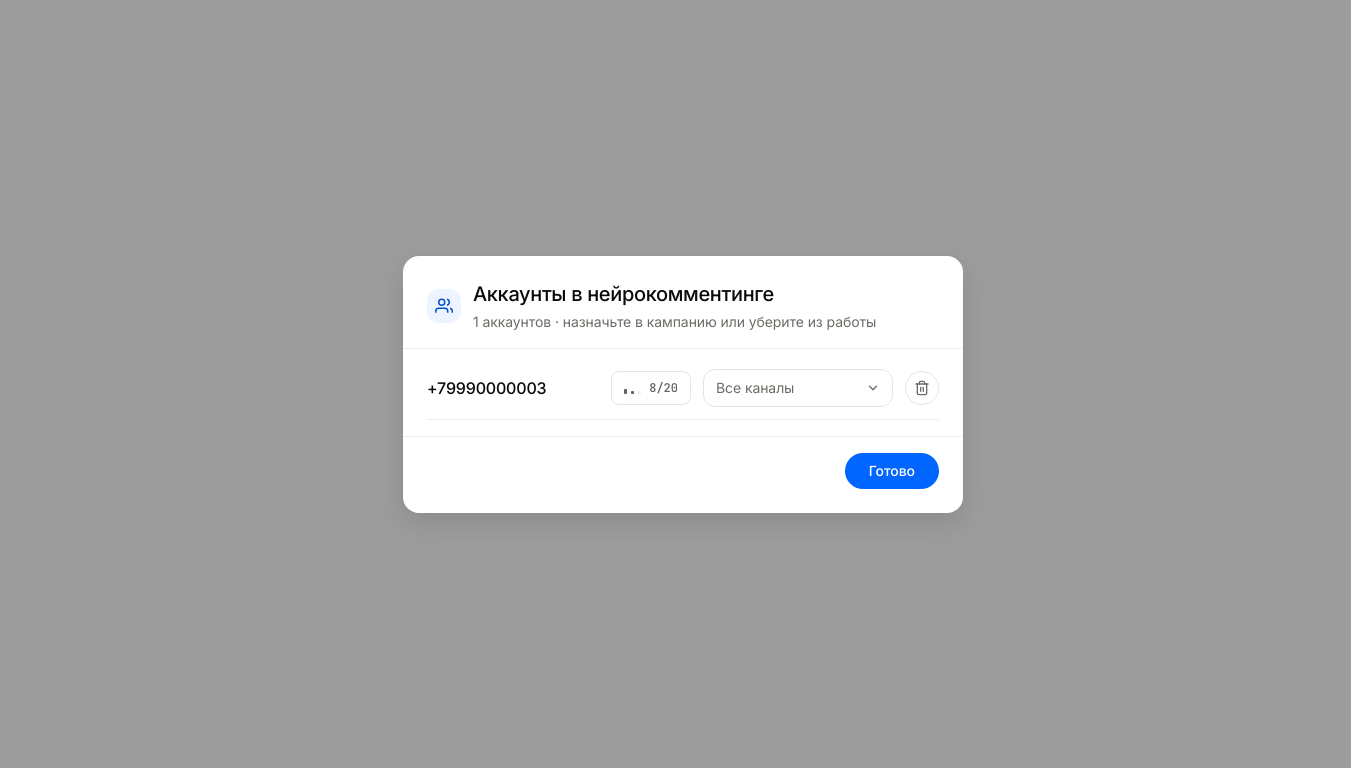
Test: an empty subset shows and selects "all channels"
What coordinates should you click on to do the following:
click the button with aria-label "Каналы аккаунта"
I would click on:
 (798, 388)
Its box is left=703, top=368, right=893, bottom=406.
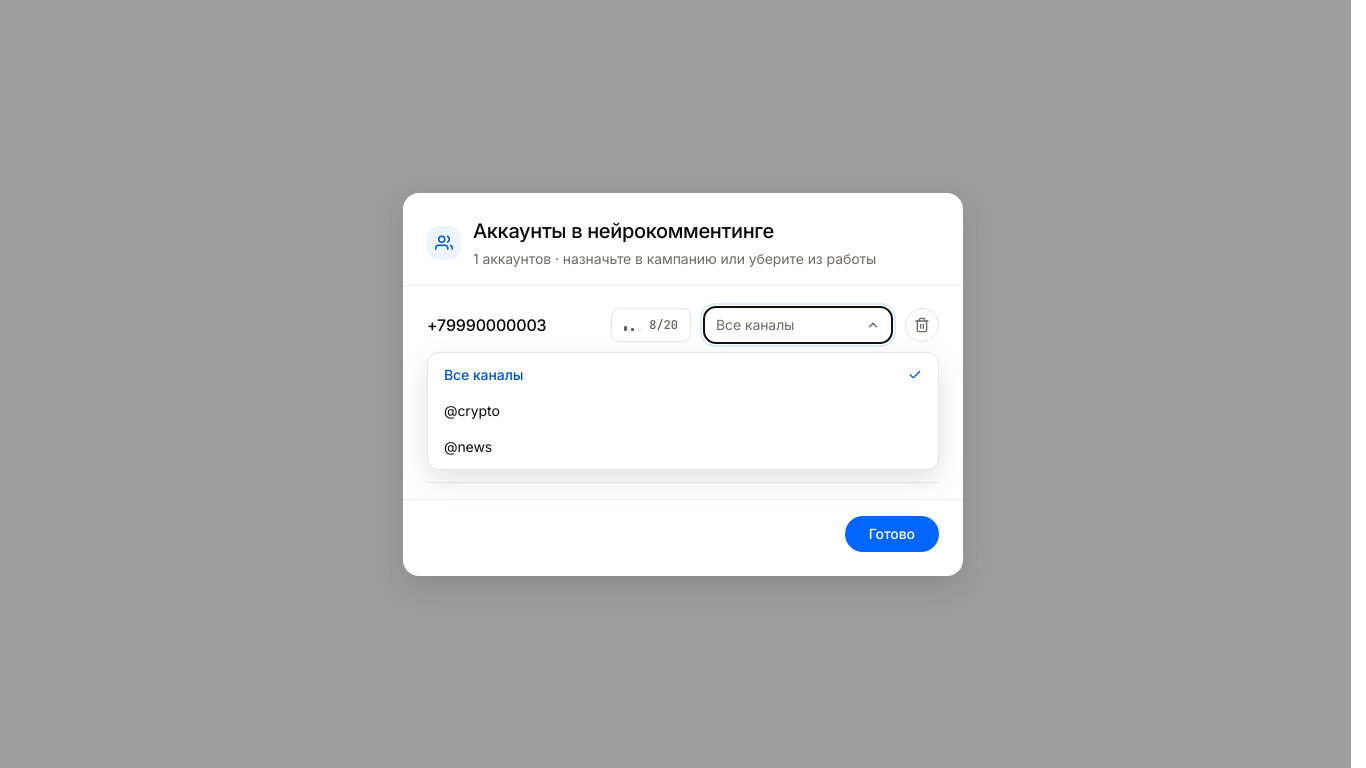
Result: the option "Все каналы" is shown at left=432, top=356, right=934, bottom=392
